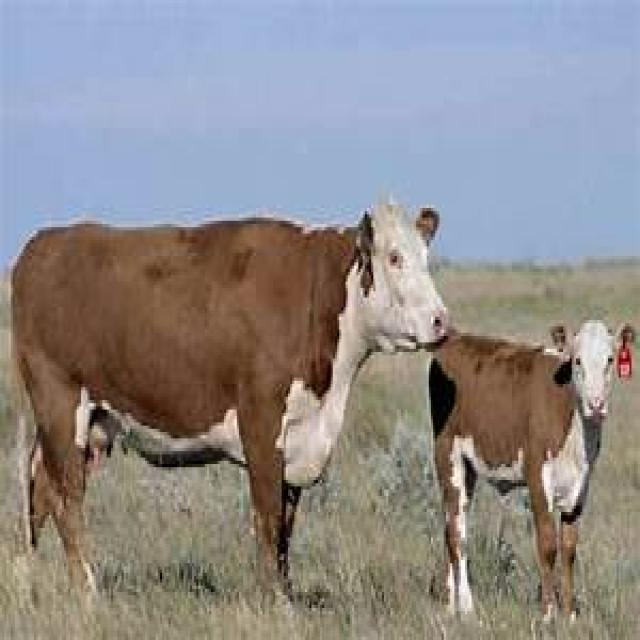cow: (9, 198, 452, 592), (425, 323, 634, 614)
